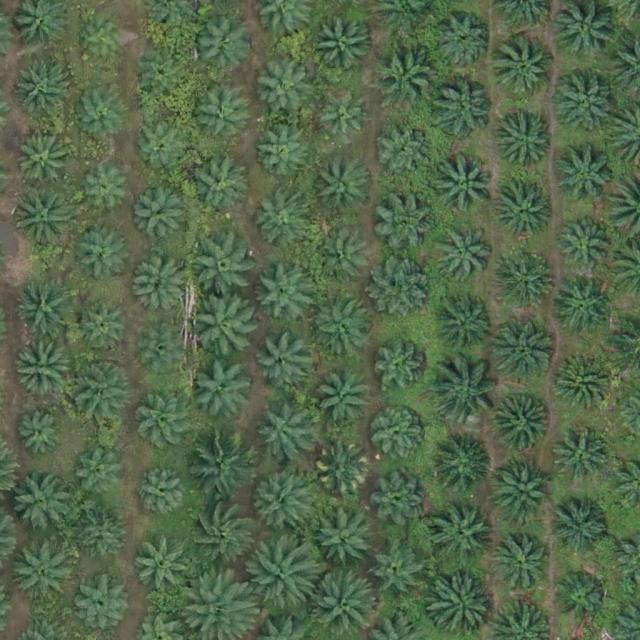Healthy: (432, 359, 503, 429), (251, 544, 321, 615), (186, 500, 256, 571), (189, 434, 259, 505), (189, 294, 259, 365), (432, 436, 495, 499), (314, 509, 377, 572), (67, 359, 130, 422), (10, 539, 73, 602), (252, 56, 315, 119), (374, 43, 437, 106), (372, 256, 435, 319), (430, 79, 493, 142), (432, 225, 495, 288), (494, 37, 557, 100), (550, 353, 612, 416), (551, 496, 613, 559), (492, 394, 554, 457), (492, 460, 555, 522), (430, 506, 492, 569), (196, 359, 258, 422), (133, 537, 195, 600), (13, 189, 75, 252), (15, 277, 77, 340), (187, 158, 249, 221), (196, 236, 258, 299), (311, 296, 373, 359), (312, 15, 374, 78), (374, 191, 436, 254), (437, 153, 499, 216), (435, 293, 497, 356), (494, 320, 556, 383), (498, 249, 560, 312), (493, 180, 555, 243), (495, 109, 557, 172), (551, 145, 613, 208), (553, 278, 615, 341), (248, 473, 310, 535), (14, 339, 76, 401), (10, 474, 72, 536), (253, 260, 315, 322), (554, 71, 616, 133), (134, 465, 189, 521), (313, 89, 368, 145), (556, 431, 611, 486), (553, 569, 608, 624), (373, 343, 428, 398), (373, 473, 428, 528), (254, 334, 309, 389), (255, 407, 310, 462), (139, 397, 194, 452), (73, 443, 128, 498), (16, 64, 71, 119), (17, 135, 72, 190), (73, 84, 128, 139), (138, 51, 193, 106), (135, 124, 190, 179), (195, 18, 250, 73), (193, 88, 248, 143), (254, 129, 309, 184), (314, 232, 369, 287), (318, 156, 373, 211), (377, 125, 432, 180), (557, 216, 612, 271), (497, 534, 551, 589), (372, 411, 426, 466), (372, 546, 426, 601), (315, 372, 369, 427), (75, 508, 129, 563), (73, 578, 127, 633), (77, 300, 131, 355), (77, 226, 131, 281), (81, 161, 135, 216), (135, 192, 189, 247), (133, 259, 187, 314), (253, 196, 307, 251), (436, 13, 490, 68)
Small: (17, 411, 64, 459), (80, 18, 127, 65), (142, 328, 189, 375)
Yellow: (315, 444, 370, 499)
